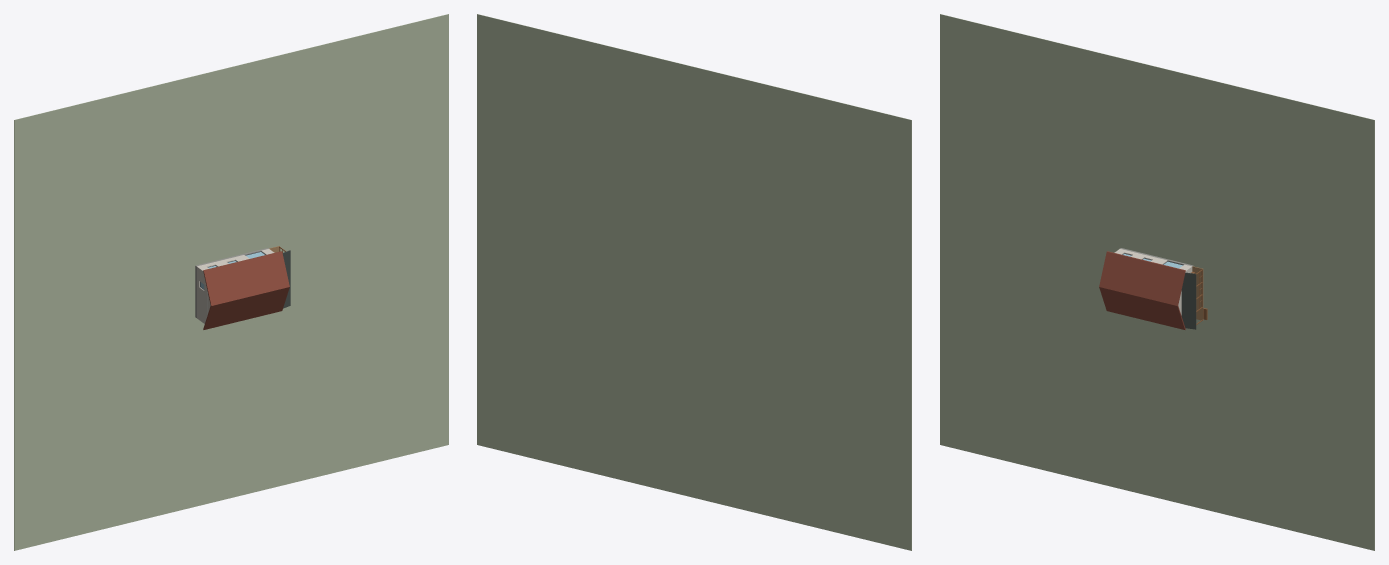
The model's file is house-full.obj.
3 views of the same model, side by side, from view 1: azimuth 30°, elevation 25°; view 2: azimuth 150°, elevation 25°; view 3: azimuth 330°, elevation 25° (orthographic).
Parts seen in each view (by area): view 1: nikolaevo-full; view 2: nikolaevo-full; view 3: nikolaevo-full.
Part boxes in pixels (x1,y1,x2,y2): nikolaevo-full: (14, 14, 448, 550); nikolaevo-full: (477, 14, 911, 550); nikolaevo-full: (940, 14, 1374, 550).
Bounding box in the file's own units: 72 × 68.2 × 5.54.
